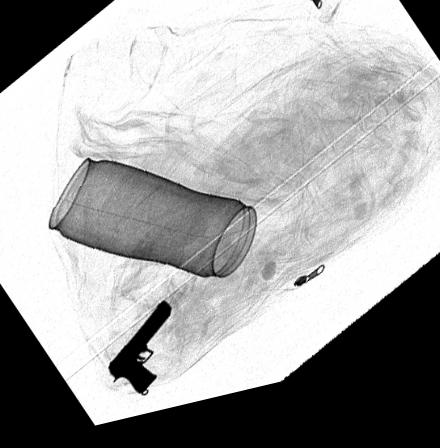Gun: (106, 308, 174, 405)
